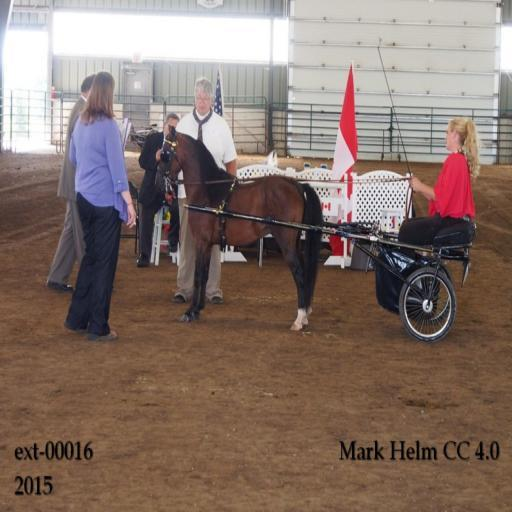Horse: (152, 122, 324, 333)
